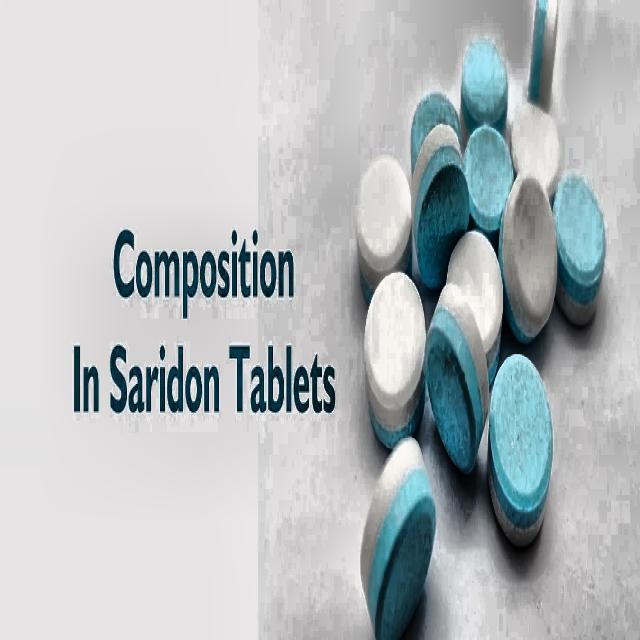Saridon: (58, 186, 324, 492)
